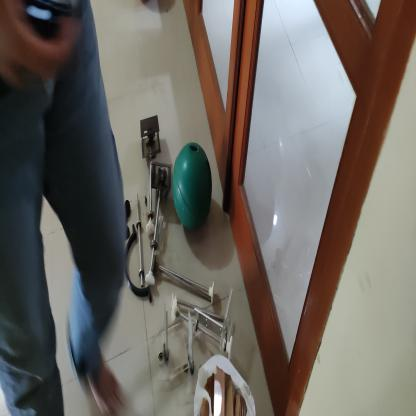green_buoy: (171, 141, 214, 235)
